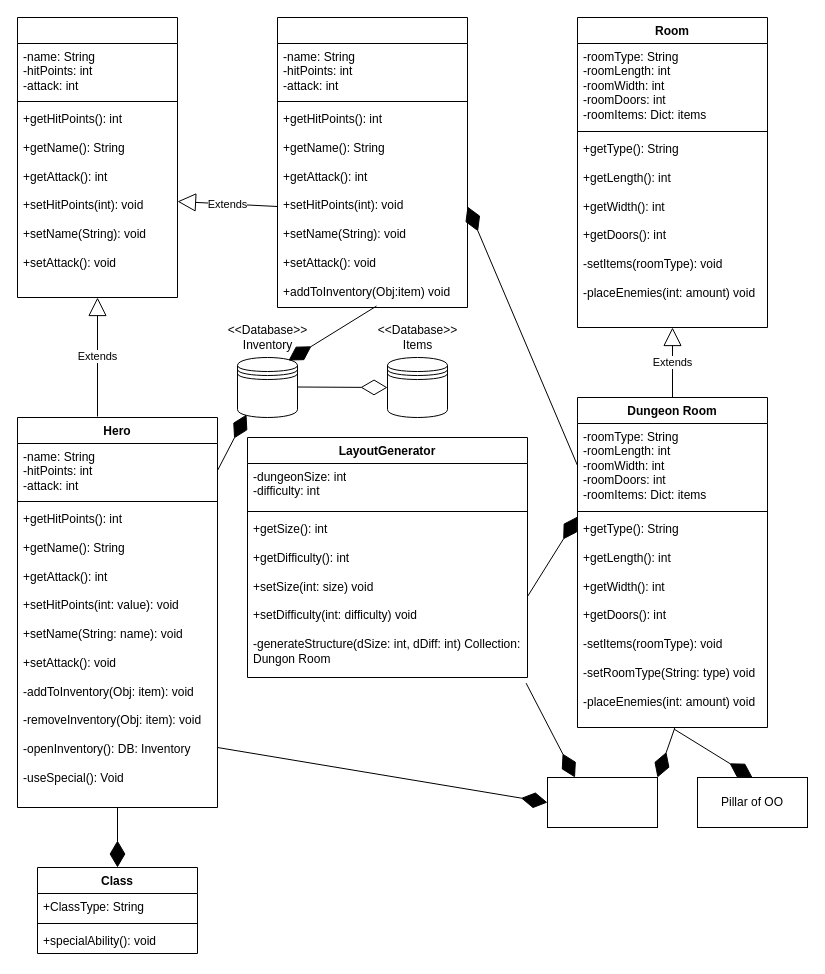
Image size: 825x974. Some labels were removed from this diagram. Each missing label, with the box of its shape:
<<Art Asset>> TileSet: (546, 776, 658, 828)
Default Entity: (16, 16, 178, 298)
Enemy: (276, 16, 468, 308)
